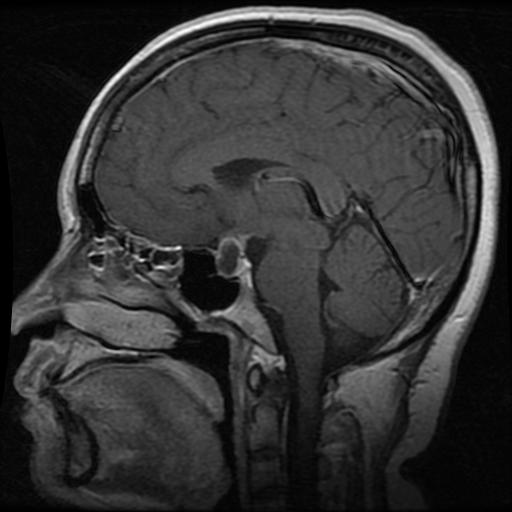Pituirity_tumour: (214, 234, 249, 277)
